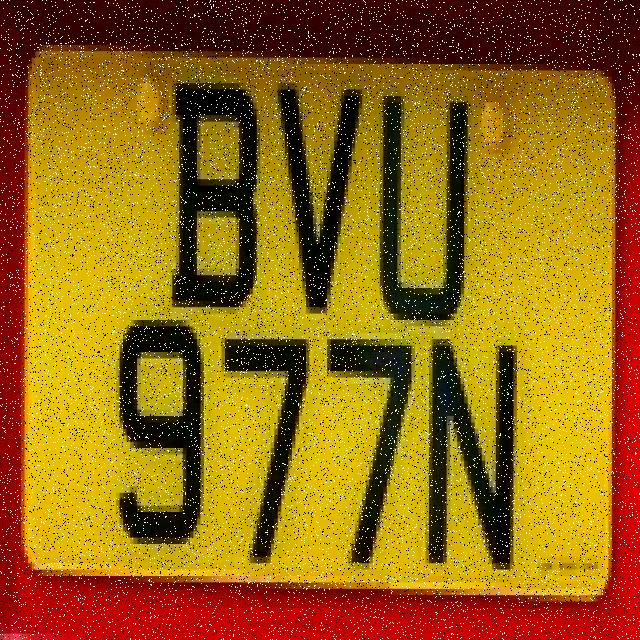licenseplate: (17, 14, 620, 618)
